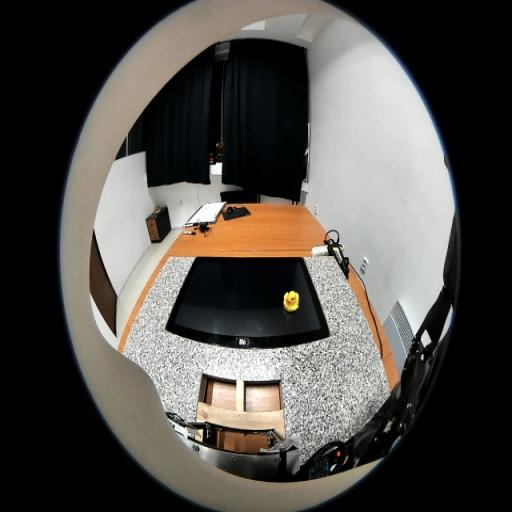Duck: (283, 290, 299, 312)
